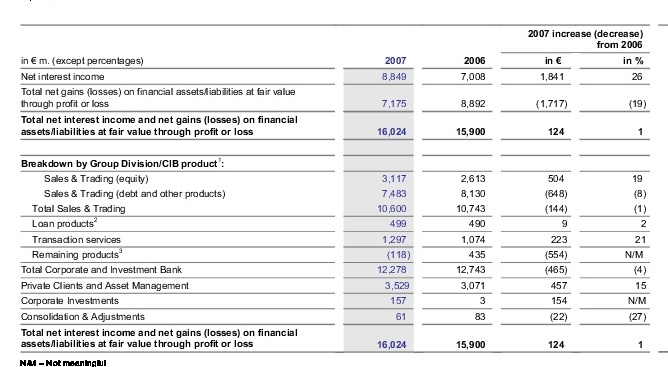table: (0, 0, 668, 367)
